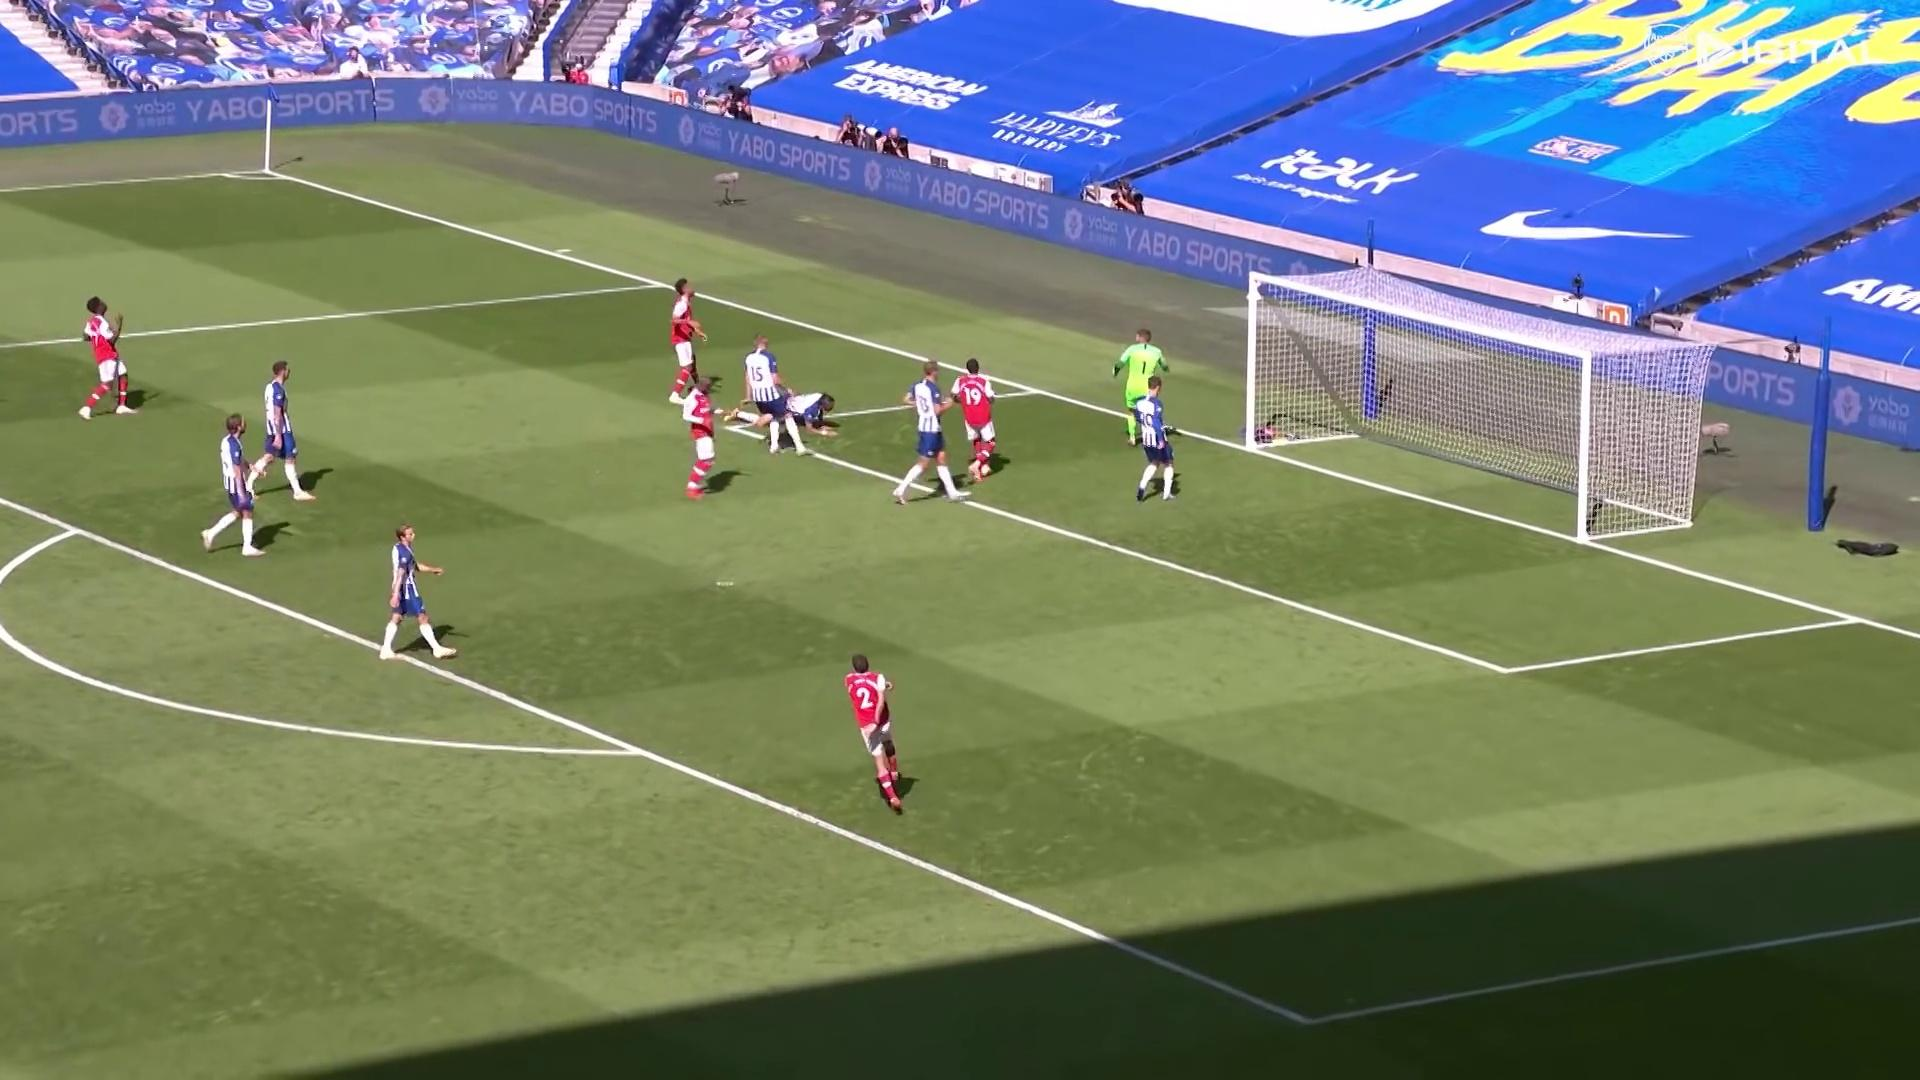ball: (1246, 267, 1264, 291)
goalkeeper: (1110, 325, 1176, 450)
player: (890, 357, 974, 508), (376, 520, 460, 665), (197, 408, 272, 561), (842, 651, 908, 814), (743, 331, 820, 459), (665, 275, 727, 417), (73, 293, 139, 425), (679, 373, 735, 505), (948, 355, 1004, 485), (1129, 372, 1182, 505), (725, 386, 846, 442)
